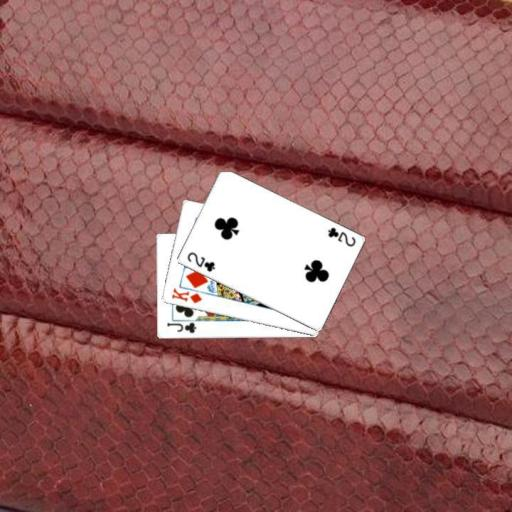2C: (184, 249, 216, 274), (324, 224, 357, 248)
JC: (164, 319, 197, 335)
KD: (169, 285, 204, 305)
